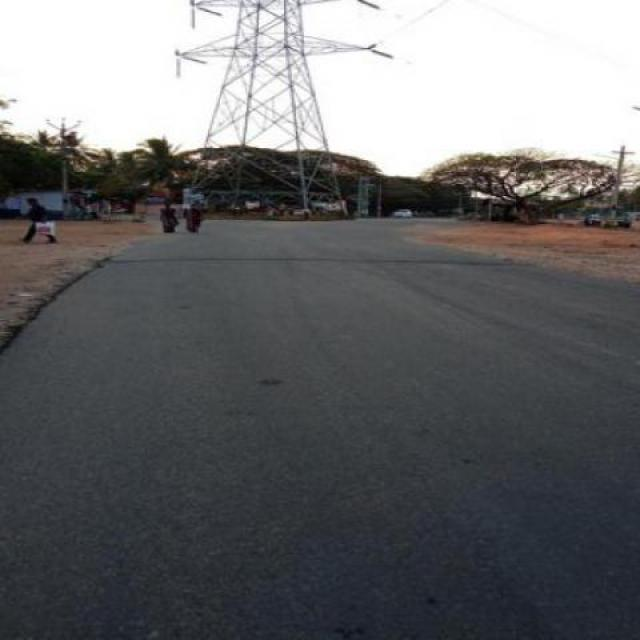Unmarked Bump: (87, 254, 538, 268)
